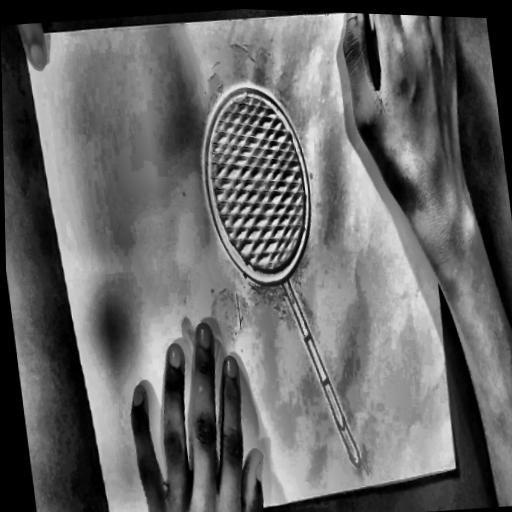badminton: (139, 59, 401, 509)
bottom_left: (451, 460, 460, 474)
top_right: (19, 30, 31, 47)
